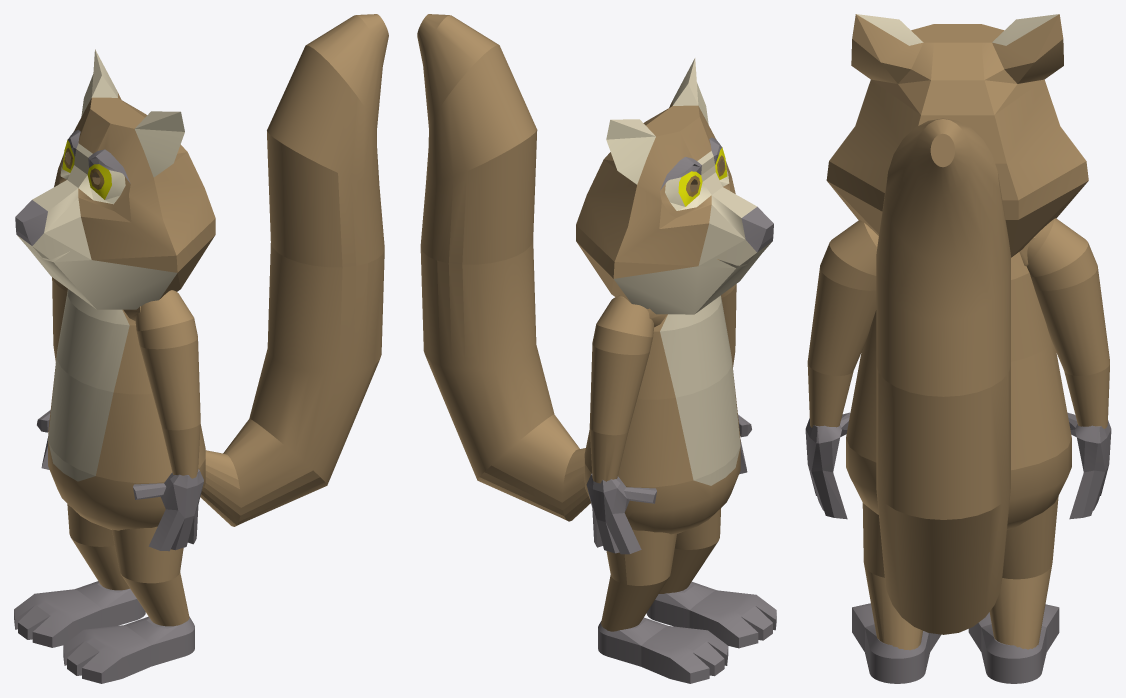
File: source.glb
3 renders of one model, left to right at view 1: azimuth 30°, elevation 25°; view 2: azimuth 150°, elevation 25°; view 3: azimuth 270°, elevation 25°, orthographic. The views are drawn at different scales.
Visible parts, largest first — view 1: Geom3D (×5); view 2: Geom3D (×5); view 3: Geom3D (×3).
Boxes of the visible parts, x1,y1,x2,y2 form: Geom3D (×5): (14, 14, 388, 683); Geom3D (×5): (417, 14, 776, 683); Geom3D (×3): (805, 14, 1111, 683).
Size of the model in its own units: 0.1615 by 0.2426 by 0.1.
